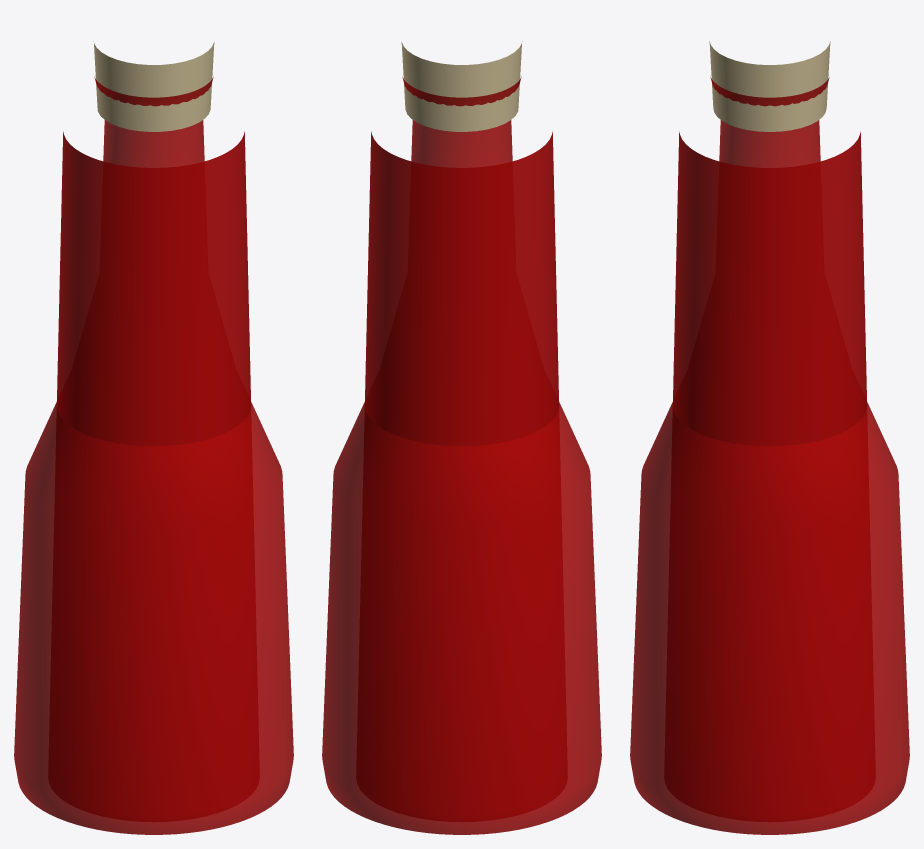
Rendered from grand-marnier-cuvee.glb.
3 renders of one model, left to right at view 1: azimuth 30°, elevation 25°; view 2: azimuth 150°, elevation 25°; view 3: azimuth 270°, elevation 25°, orthographic.
Visible parts, largest first — view 1: body, liquid, cap; view 2: body, liquid, cap; view 3: body, liquid, cap.
Part boxes in pixels (bbox=[...]): body: bbox=[14, 77, 293, 834]; liquid: bbox=[56, 131, 251, 446]; cap: bbox=[93, 41, 214, 131]; body: bbox=[322, 77, 601, 834]; liquid: bbox=[364, 131, 559, 446]; cap: bbox=[401, 41, 522, 131]; body: bbox=[630, 77, 909, 834]; liquid: bbox=[672, 131, 867, 446]; cap: bbox=[709, 41, 830, 131].
Size of the model in its own units: 0.37 by 1.08 by 0.37.
